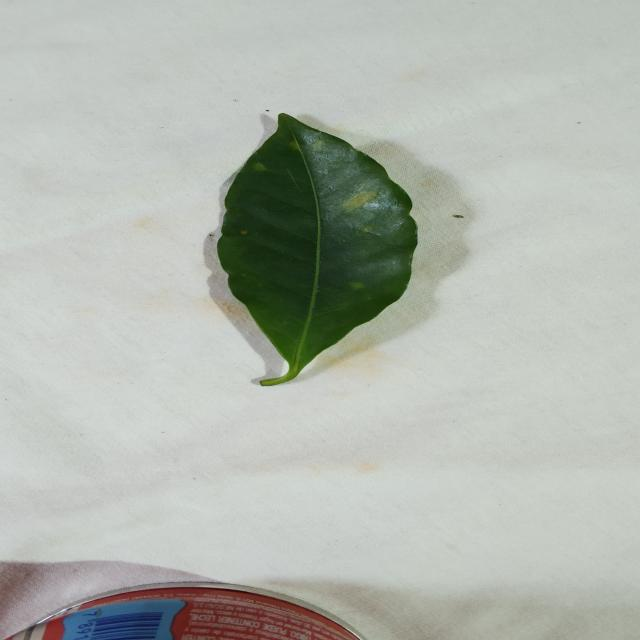Enfermedad-Roya: (216, 114, 418, 387)
